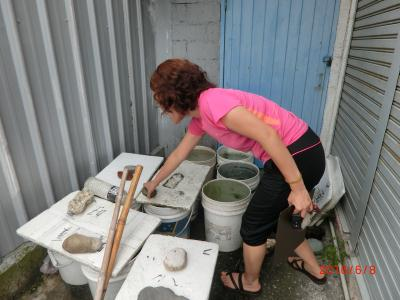bucket: (199, 177, 251, 254)
